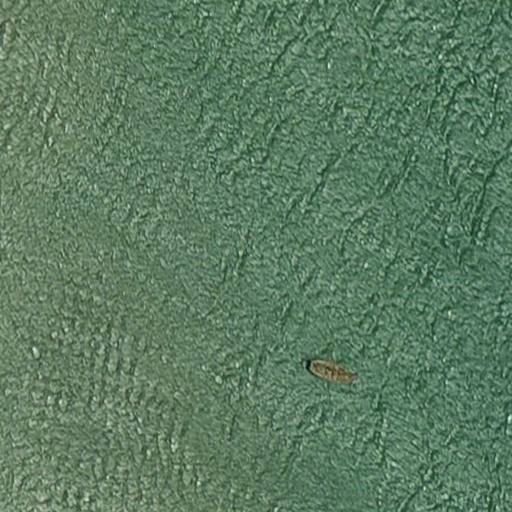ship: (304, 356, 353, 387)
